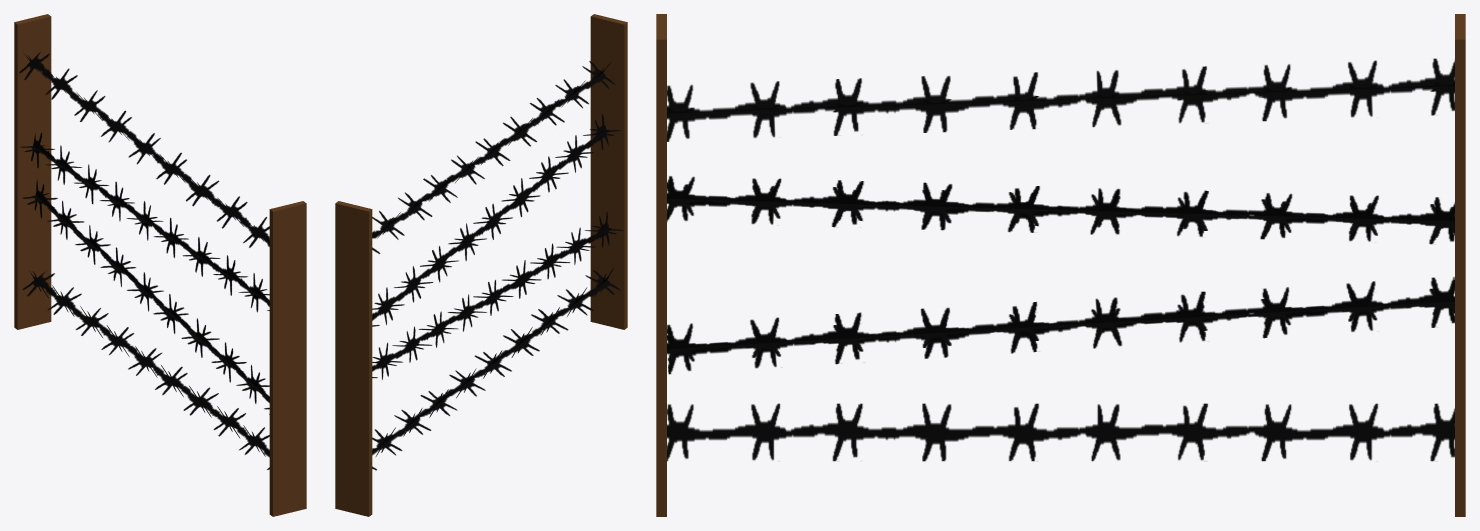
Rendered from barbed_wire.glb.
3 renders of one model, left to right at view 1: azimuth 30°, elevation 25°; view 2: azimuth 150°, elevation 25°; view 3: azimuth 270°, elevation 25°, orthographic. The views are drawn at different scales.
Parts seen in each view (by area): view 1: Plank.001, Plank, Wire.004, Wire.003, Wire.002, Wire.001; view 2: Plank, Plank.001, Wire.001, Wire.004, Wire.003, Wire.002; view 3: Wire.003, Wire.002, Wire.004, Wire.001, Plank, Plank.001.
Part boxes in pixels (x1=…): Plank.001: x1=269, y1=201, x2=306, y2=516; Plank: x1=14, y1=14, x2=51, y2=329; Wire.004: x1=23, y1=179, x2=269, y2=414; Wire.003: x1=22, y1=270, x2=269, y2=469; Wire.002: x1=19, y1=52, x2=269, y2=247; Wire.001: x1=20, y1=132, x2=269, y2=312; Plank: x1=335, y1=201, x2=372, y2=516; Plank.001: x1=590, y1=14, x2=627, y2=329; Wire.001: x1=372, y1=113, x2=621, y2=326; Wire.004: x1=372, y1=211, x2=623, y2=379; Wire.003: x1=372, y1=268, x2=621, y2=470; Wire.002: x1=372, y1=61, x2=615, y2=253; Wire.003: x1=667, y1=403, x2=1454, y2=461; Wire.002: x1=667, y1=58, x2=1454, y2=141; Wire.004: x1=667, y1=277, x2=1454, y2=374; Wire.001: x1=667, y1=176, x2=1454, y2=244; Plank: x1=1455, y1=14, x2=1465, y2=516; Plank.001: x1=656, y1=14, x2=666, y2=516.
Size of the model in its own units: 0.1799 by 1.5 by 2.3.
Materials: 2 (1 with a texture image).
